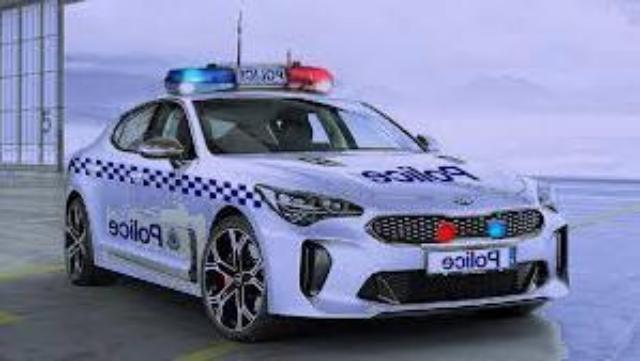police_car: (62, 64, 572, 345)
